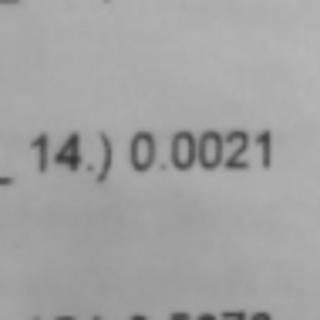.: (155, 159, 169, 173), (86, 160, 98, 173)
0: (129, 130, 157, 169), (172, 131, 198, 167), (199, 131, 221, 171)
1: (34, 131, 47, 173), (258, 128, 271, 166)
2: (227, 130, 250, 168)
4: (64, 134, 81, 172)
